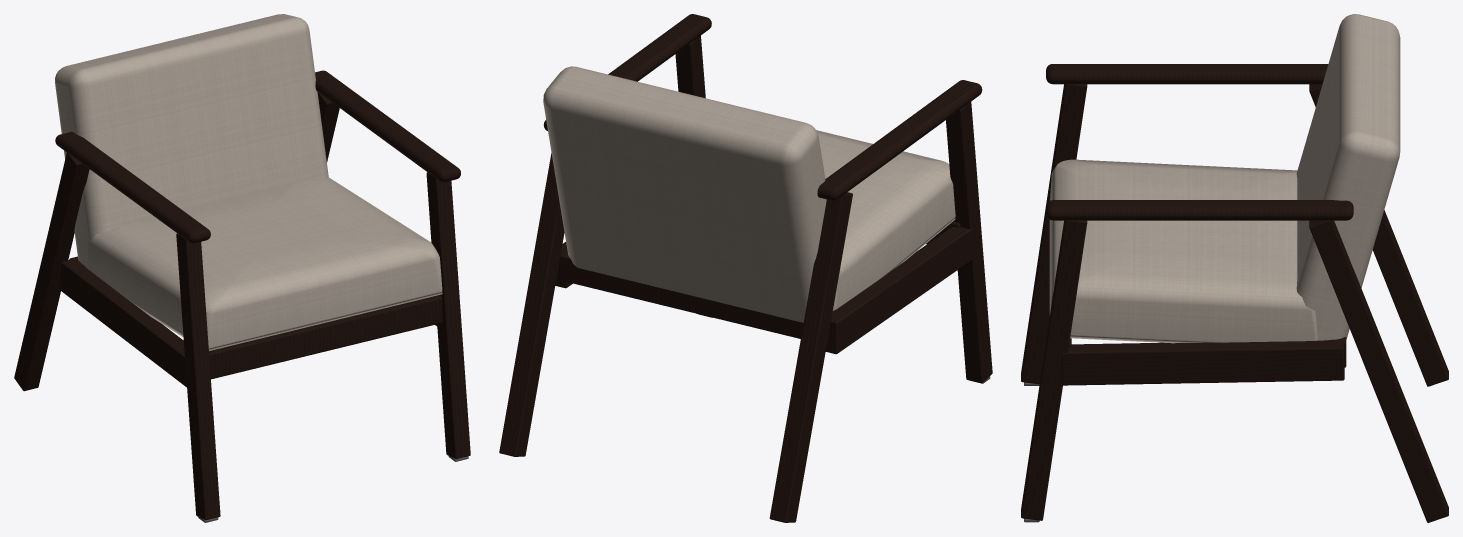
File: armchair.glb
3 views of the same model, side by side, from view 1: azimuth 30°, elevation 25°; view 2: azimuth 150°, elevation 25°; view 3: azimuth 270°, elevation 25° (orthographic). The views are drawn at different scales.
Visible parts, largest first — view 1: Tall subtly rounded upholstered back, Fixed seat with squared lower apron, Flat rectangular front leg, Deep rectangular front seat rail, Flat rectangular front leg.001, Flat rectangular rear leg, Deep side seat rail, Long pill-edged armrest, Long pill-edged armrest.001, Flat rectangular rear leg.001; view 2: Tall subtly rounded upholstered back, Fixed seat with squared lower apron, Flat rectangular rear leg, Flat rectangular rear leg.001, Flat rectangular front leg, Deep side seat rail, Long pill-edged armrest, Rear seat crosspiece, Long pill-edged armrest.001, Flat rectangular front leg.001; view 3: Fixed seat with squared lower apron, Tall subtly rounded upholstered back, Deep side seat rail.001, Flat rectangular rear leg.001, Flat rectangular front leg.001, Long pill-edged armrest.001, Long pill-edged armrest, Flat rectangular front leg, Flat rectangular rear leg.
Boxes of the visible parts, left/top/right/bottom form: Tall subtly rounded upholstered back: left=55, top=14, right=328, bottom=266; Fixed seat with squared lower apron: left=86, top=177, right=442, bottom=350; Flat rectangular front leg: left=176, top=233, right=220, bottom=520; Deep rectangular front seat rail: left=209, top=295, right=442, bottom=379; Flat rectangular front leg.001: left=426, top=172, right=470, bottom=459; Flat rectangular rear leg: left=14, top=153, right=89, bottom=391; Deep side seat rail: left=60, top=259, right=187, bottom=387; Long pill-edged armrest: left=55, top=131, right=210, bottom=243; Long pill-edged armrest.001: left=315, top=70, right=460, bottom=182; Flat rectangular rear leg.001: left=317, top=92, right=339, bottom=161; Tall subtly rounded upholstered back: left=543, top=66, right=839, bottom=322; Fixed seat with squared lower apron: left=816, top=130, right=955, bottom=309; Flat rectangular rear leg: left=769, top=192, right=852, bottom=522; Flat rectangular rear leg.001: left=499, top=153, right=564, bottom=456; Flat rectangular front leg: left=946, top=102, right=992, bottom=383; Deep side seat rail: left=825, top=226, right=973, bottom=354; Long pill-edged armrest: left=817, top=80, right=982, bottom=200; Rear seat crosspiece: left=559, top=250, right=833, bottom=338; Long pill-edged armrest.001: left=543, top=14, right=711, bottom=130; Flat rectangular front leg.001: left=675, top=35, right=710, bottom=317; Fixed seat with squared lower apron: left=1049, top=159, right=1317, bottom=343; Tall subtly rounded upholstered back: left=1296, top=14, right=1400, bottom=340; Deep side seat rail.001: left=1061, top=340, right=1344, bottom=385; Flat rectangular rear leg.001: left=1309, top=220, right=1448, bottom=522; Flat rectangular front leg.001: left=1021, top=220, right=1087, bottom=520; Long pill-edged armrest.001: left=1046, top=200, right=1353, bottom=220; Long pill-edged armrest: left=1046, top=64, right=1328, bottom=84; Flat rectangular front leg: left=1021, top=84, right=1087, bottom=384; Flat rectangular rear leg: left=1309, top=84, right=1448, bottom=386.
Bounding box in the file's own units: 0.64 × 0.76 × 0.78.
4 materials, 2 textured.
